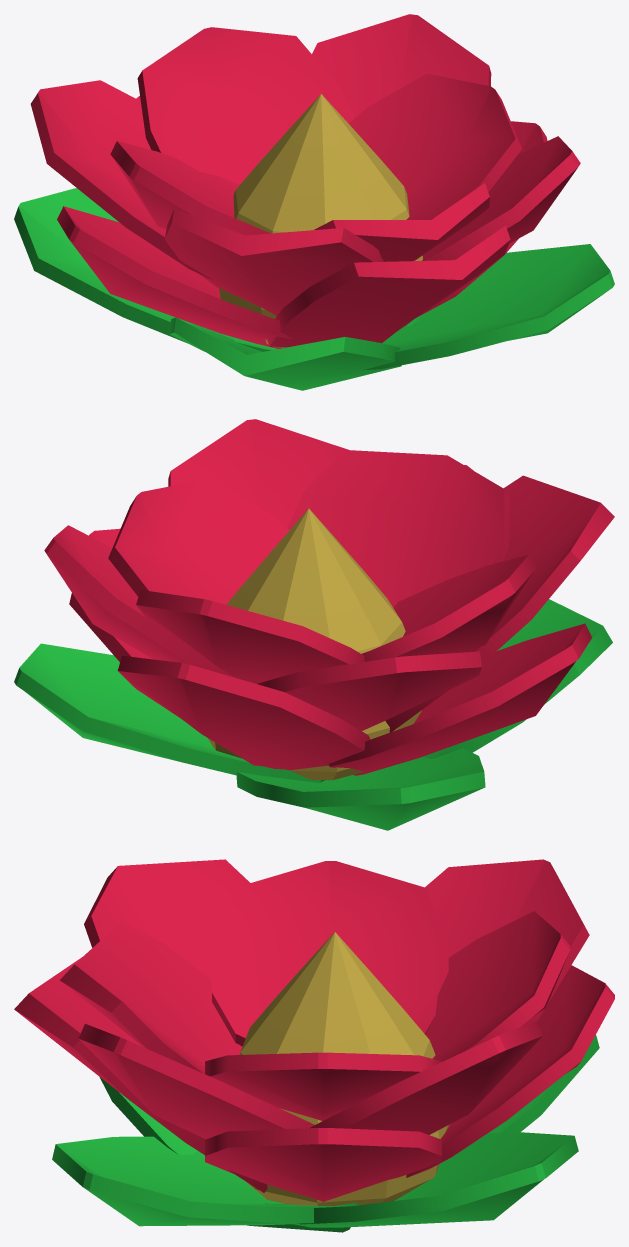
File: flower.obj
3 views of the same model, one above another, from view 1: azimuth 30°, elevation 25°; view 2: azimuth 150°, elevation 25°; view 3: azimuth 270°, elevation 25° (orthographic). The views are drawn at different scales.
Visible parts, largest first — view 1: pCube5, pCube1, pCube10 polySurface35, pCube10 polySurface36, pCube14, pCube10 polySurface33, pCube10 polySurface32, pCube13, pCube10 polySurface34, pCube10 polySurface39, polySurface38 pCube10, pCube10 polySurface31 (+3 smaller); view 2: pCube4, pCube1, pCube12, pCube10 polySurface35, pCube10 polySurface37, pCube13, pCube5, polySurface38 pCube10, pCube10 polySurface32, pCube10 polySurface31, pCube10 polySurface33, pCube2 (+3 smaller); view 3: pCube2, pCube10 polySurface35, pCube10 polySurface36, pCube4, pCube5, pCube11, pCube10 polySurface37, pCube10 polySurface32, pCube10 polySurface33, pCube10 polySurface31, pCube12, pCube1 (+4 smaller).
Boxes of the visible parts, x1,y1,x2,y2 form: pCube5: [137, 27, 354, 184]; pCube1: [348, 74, 521, 219]; pCube10 polySurface35: [219, 94, 422, 347]; pCube10 polySurface36: [362, 244, 614, 371]; pCube14: [266, 225, 510, 347]; pCube10 polySurface33: [30, 80, 213, 280]; pCube10 polySurface32: [164, 208, 383, 315]; pCube13: [57, 206, 293, 348]; pCube10 polySurface34: [312, 14, 491, 117]; pCube10 polySurface39: [169, 317, 401, 390]; polySurface38 pCube10: [14, 188, 277, 351]; pCube10 polySurface31: [422, 136, 580, 260]; pCube4: [287, 450, 509, 607]; pCube1: [108, 479, 289, 604]; pCube12: [117, 655, 370, 770]; pCube10 polySurface35: [208, 508, 421, 780]; pCube10 polySurface37: [14, 643, 324, 782]; pCube13: [328, 623, 591, 775]; pCube5: [136, 590, 364, 683]; polySurface38 pCube10: [236, 748, 485, 830]; pCube10 polySurface32: [385, 475, 614, 732]; pCube10 polySurface31: [168, 419, 349, 527]; pCube10 polySurface33: [257, 651, 481, 730]; pCube2: [362, 554, 535, 661]; pCube2: [212, 861, 448, 1046]; pCube10 polySurface35: [239, 932, 449, 1206]; pCube10 polySurface36: [52, 1136, 357, 1226]; pCube4: [60, 921, 242, 1073]; pCube5: [425, 911, 570, 1061]; pCube11: [205, 1128, 441, 1201]; pCube10 polySurface37: [265, 1132, 578, 1227]; pCube10 polySurface32: [84, 859, 249, 979]; pCube10 polySurface33: [425, 859, 589, 1026]; pCube10 polySurface31: [78, 1023, 314, 1139]; pCube12: [406, 965, 614, 1177]; pCube1: [205, 1052, 441, 1120].
Bounding box in the file's own units: 2.47 × 1.4 × 2.54.
